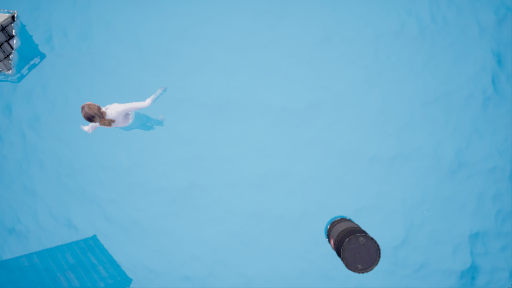person: (66, 81, 172, 138)
